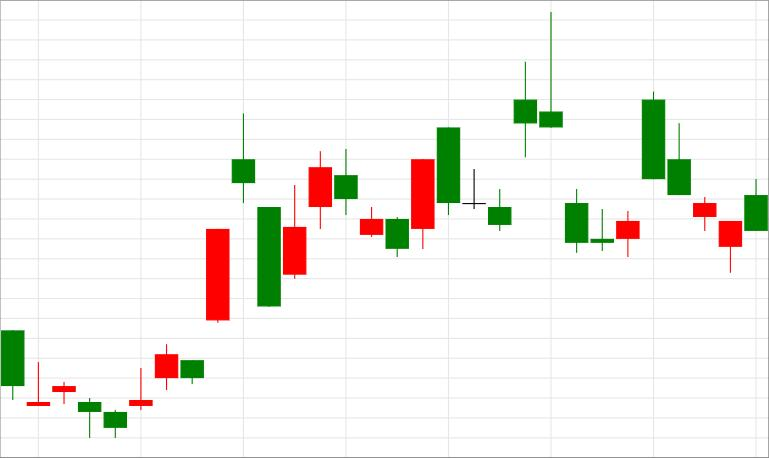evening_star_fall: (104, 114, 280, 439)
